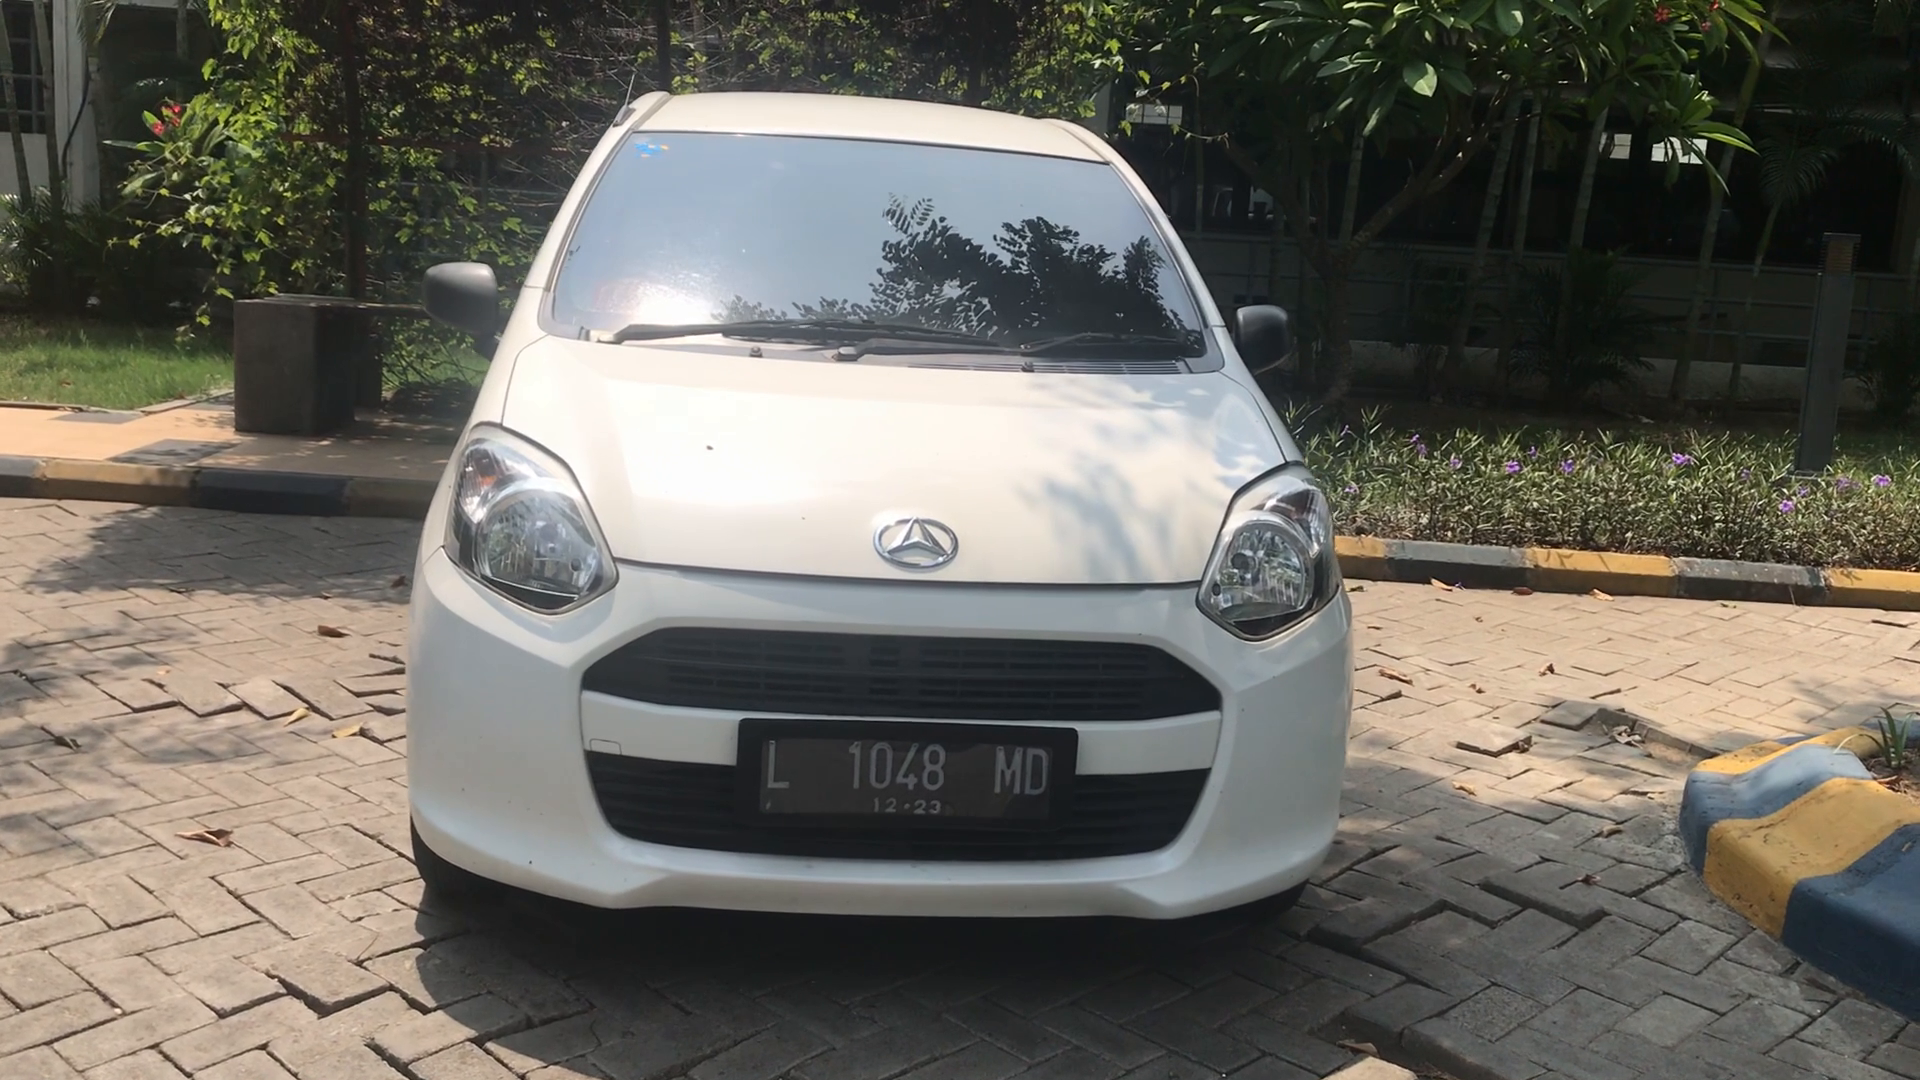plate: (762, 722, 1072, 825)
